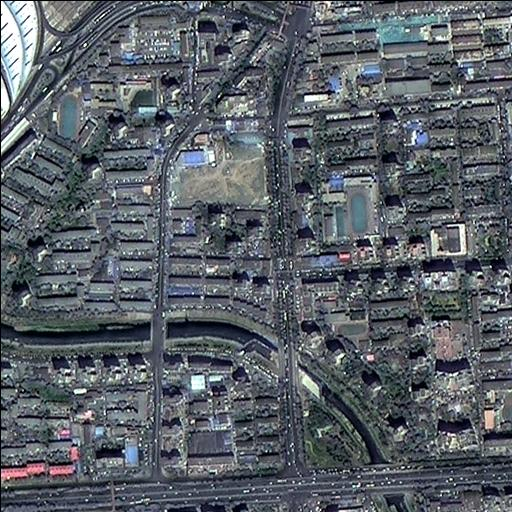school: (46, 77, 161, 148), (320, 293, 371, 339)
